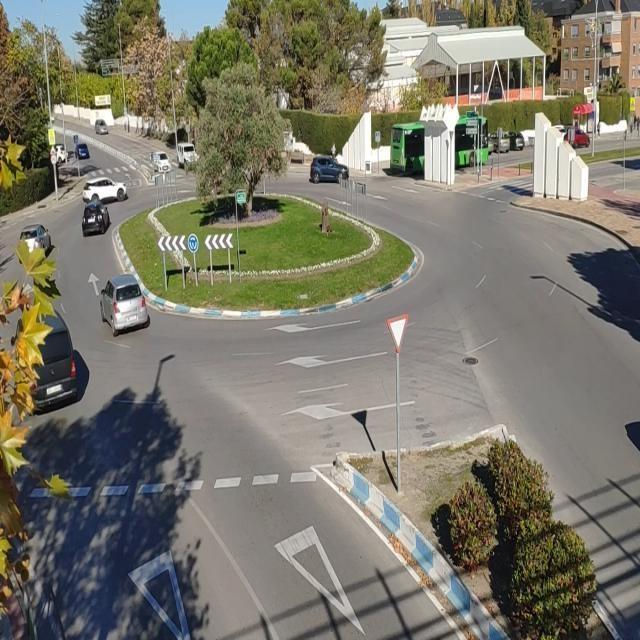Car: (99, 274, 150, 333), (82, 176, 128, 202), (309, 156, 351, 184), (82, 201, 110, 235), (75, 143, 90, 160)
Van: (153, 150, 172, 174)
